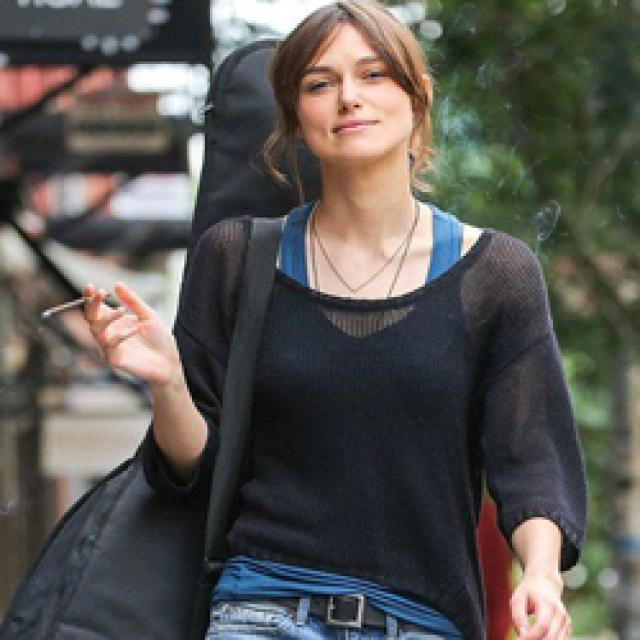Smooking: (31, 286, 106, 323)
